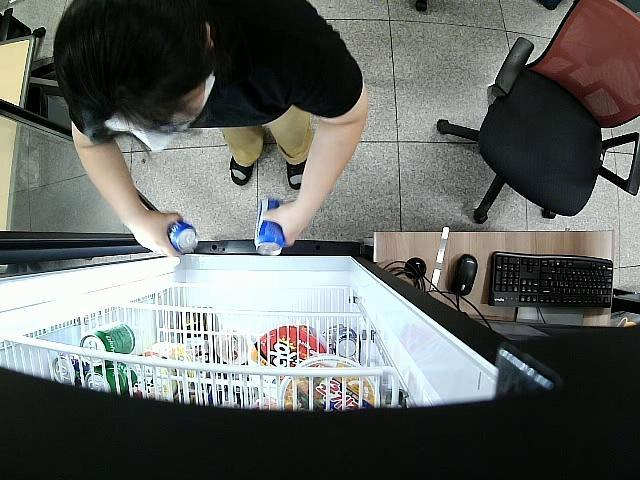13_pocariSweat: (252, 198, 286, 256), (166, 222, 198, 250)
